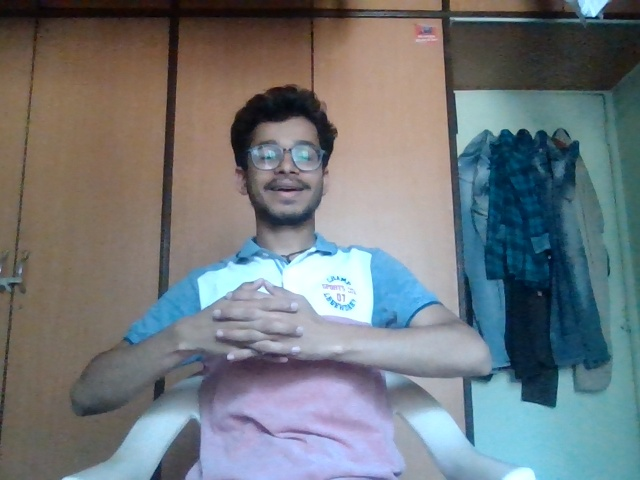good: (206, 269, 331, 377)
